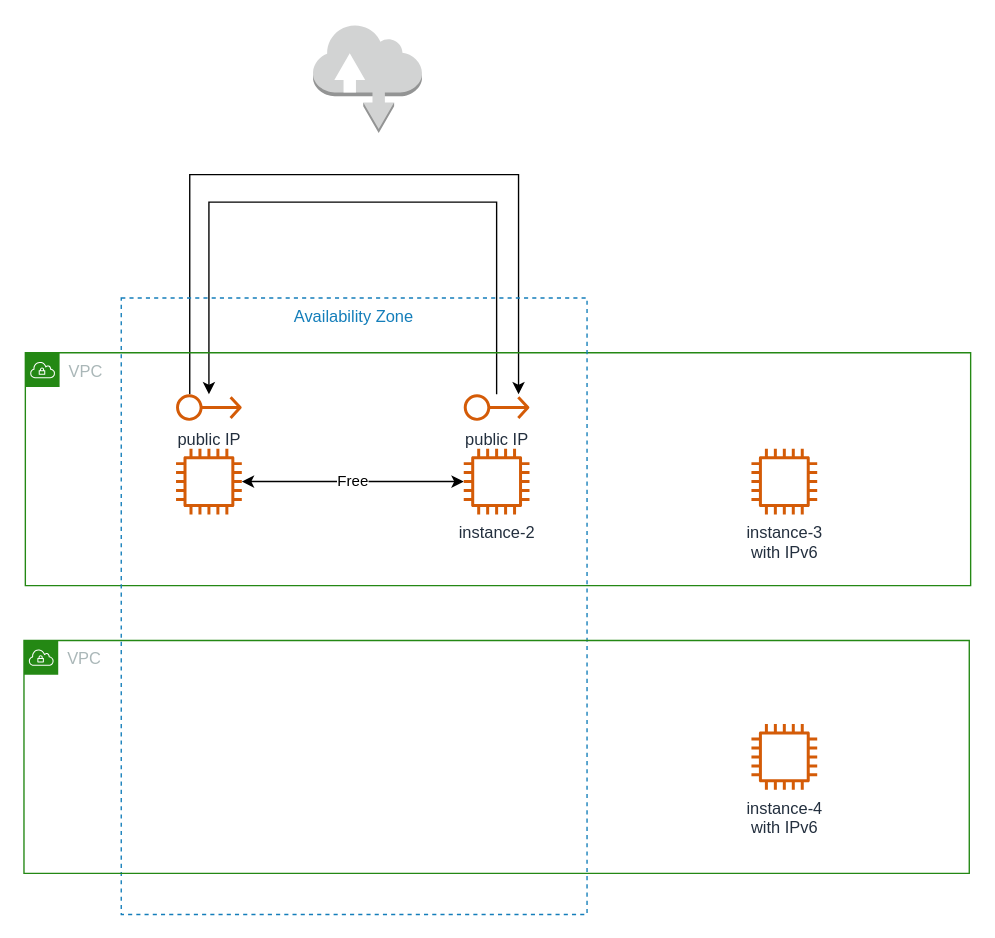
The diagram is 995 pixels wide and 938 high, and some of its shapes have lost their labels. Here are the shapes that lost their labels. From the top down, the centre of each, then its label:
At (x=367, y=78): "Internet".
At (x=208, y=481): "instance-1".
